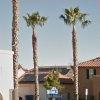Palm tree: (58, 4, 98, 84)
